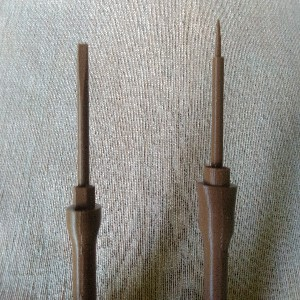obeng: (65, 43, 103, 300)
solder: (194, 18, 239, 300)
